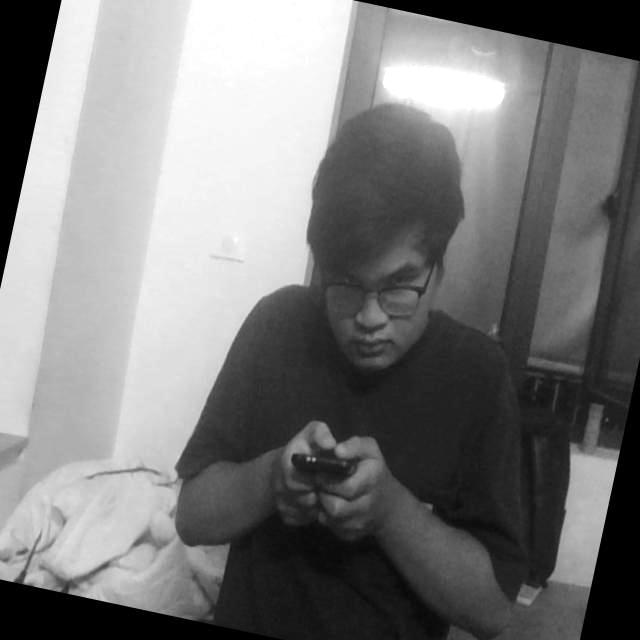phone: (273, 419, 382, 530)
